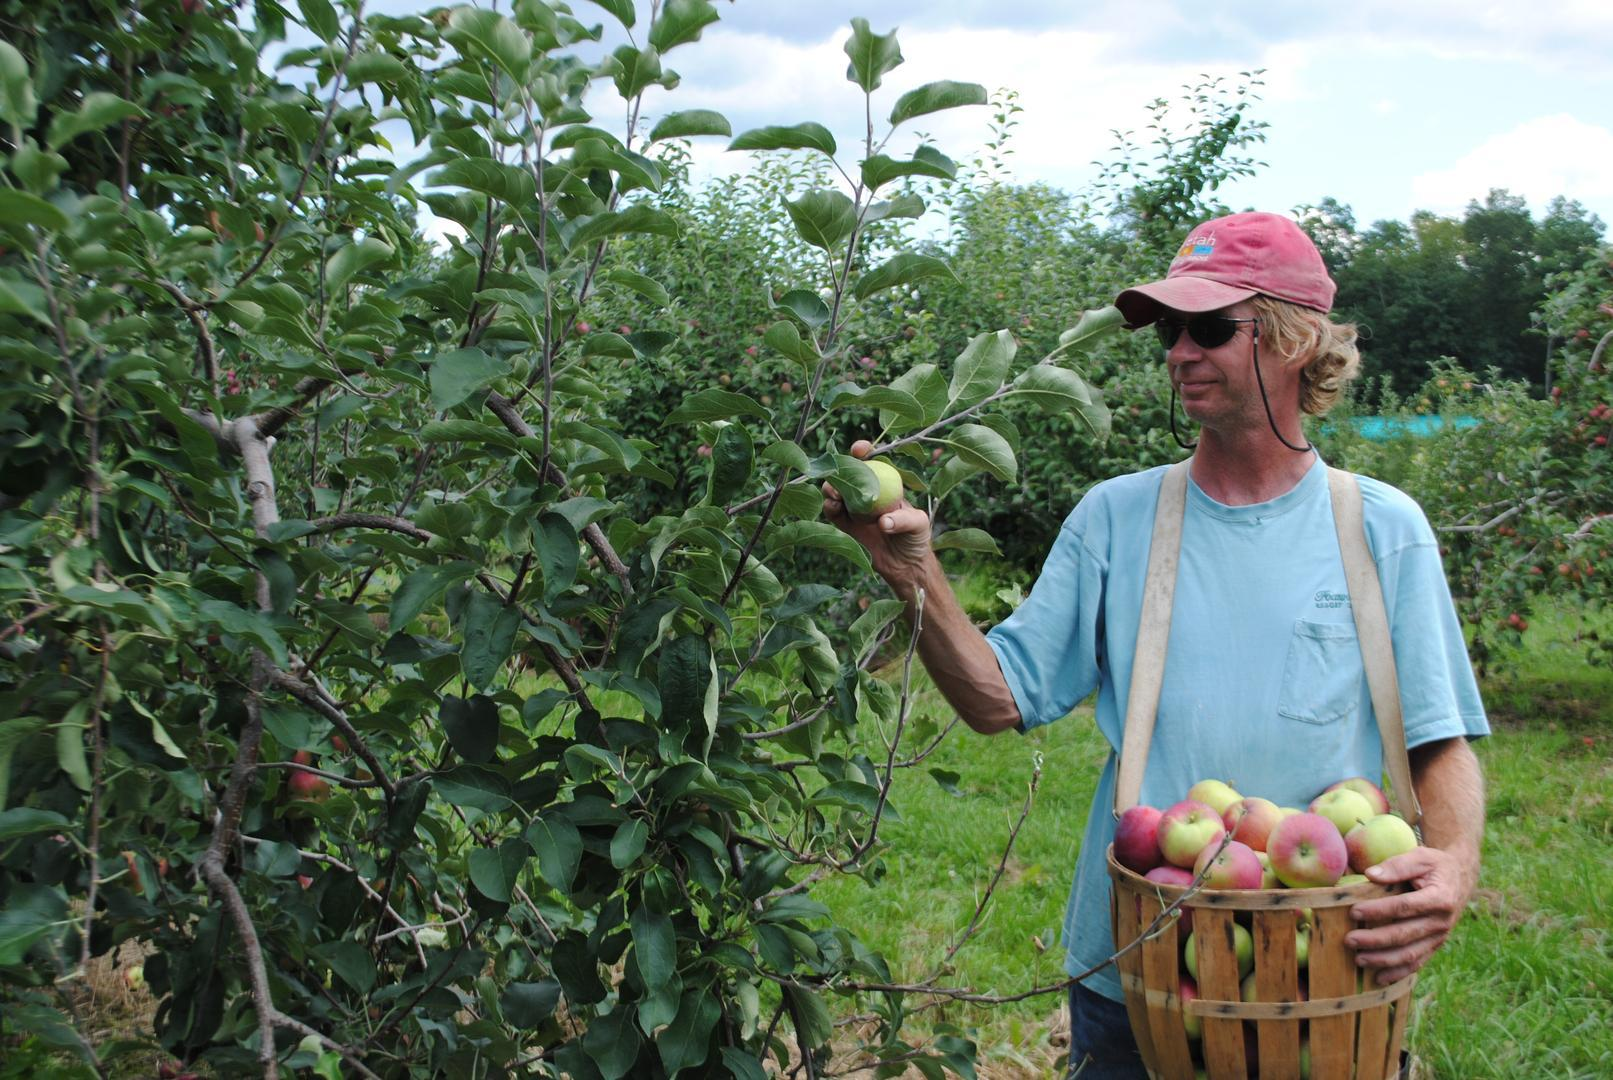apple: (1268, 810, 1347, 890), (1156, 800, 1225, 865), (1192, 837, 1263, 892), (1344, 812, 1415, 868), (1111, 805, 1162, 870)
